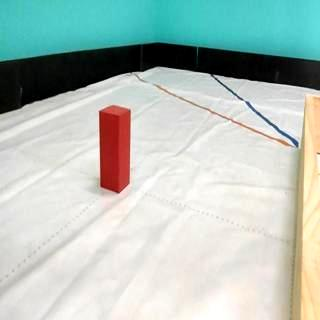redbox: (98, 104, 130, 194)
